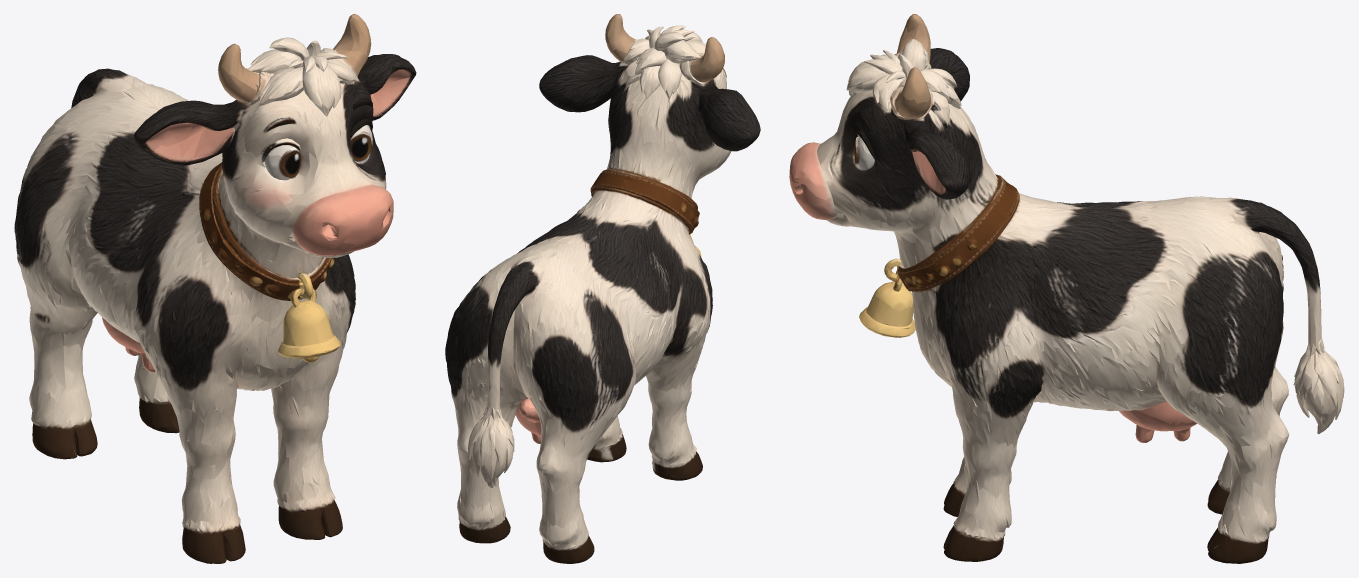
The model's file is remesh-30000.glb.
3 views of the same model, side by side, from view 1: azimuth 30°, elevation 25°; view 2: azimuth 150°, elevation 25°; view 3: azimuth 270°, elevation 25° (orthographic). The views are drawn at different scales.
Parts seen in each view (by area): view 1: output_unwrapped; view 2: output_unwrapped; view 3: output_unwrapped.
Part boxes in pixels (x1,y1,x2,y2): output_unwrapped: (14, 14, 416, 563); output_unwrapped: (445, 14, 760, 563); output_unwrapped: (789, 14, 1344, 563).
Bounding box in the file's own units: 1.01 × 1.85 × 1.9.
1 material, 1 textured.
